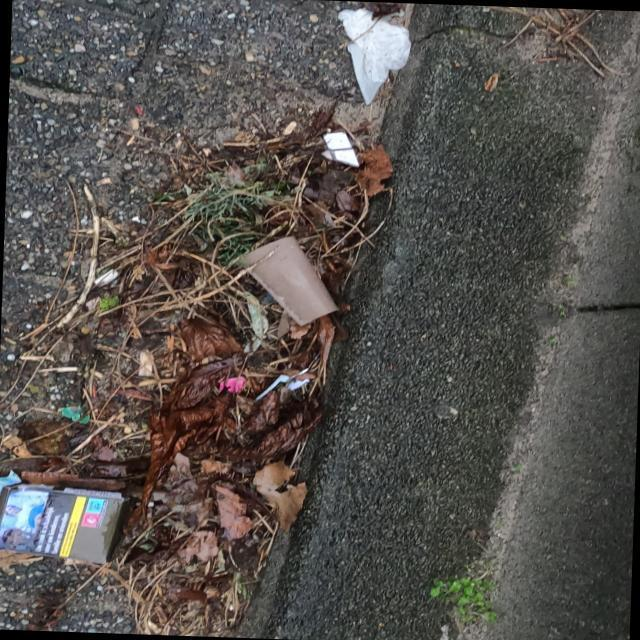Paper: (0, 481, 126, 565), (336, 4, 412, 108)
